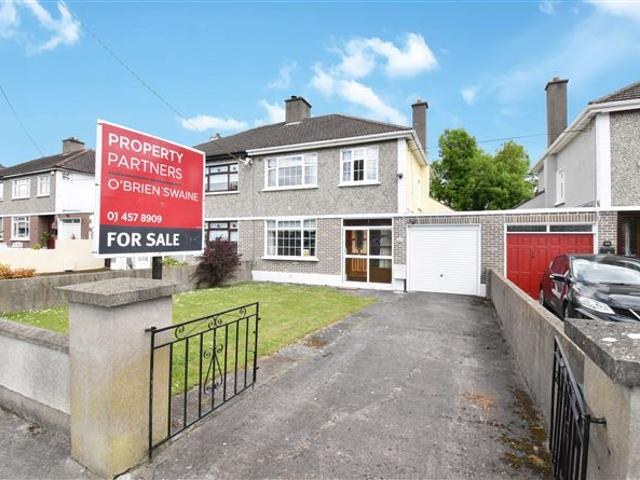property sign: (74, 109, 217, 269)
